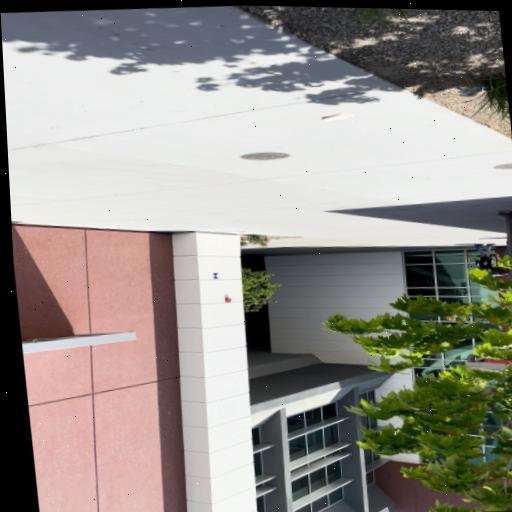target2: (212, 273, 218, 279)
